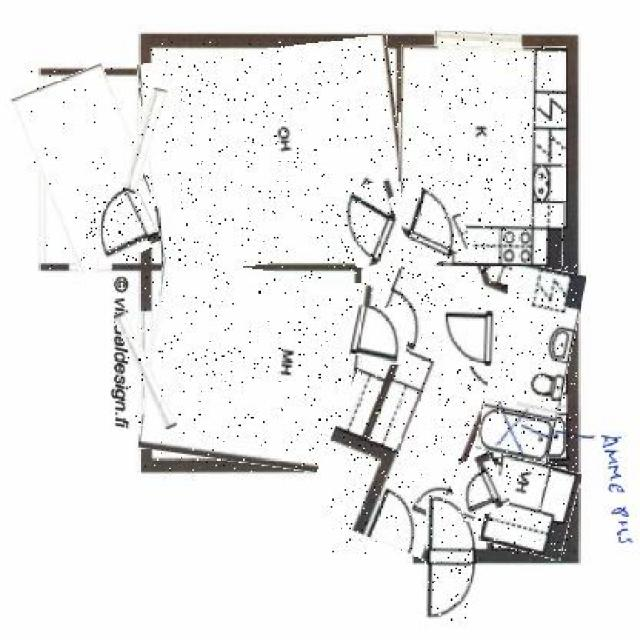door: (397, 182, 468, 264), (426, 495, 471, 620), (86, 183, 157, 260), (343, 182, 408, 266), (449, 456, 506, 518), (351, 308, 409, 363), (443, 311, 495, 366)
window: (128, 310, 164, 432), (132, 88, 163, 195), (434, 32, 521, 49)
zone: (331, 212, 520, 554), (143, 42, 406, 269), (144, 265, 390, 472), (400, 46, 566, 266), (28, 68, 155, 269), (485, 264, 577, 462), (485, 458, 577, 557)
